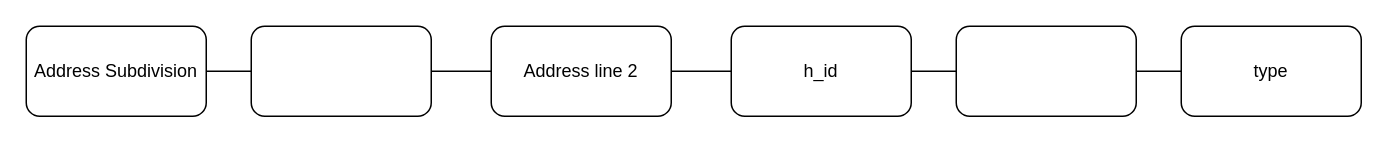
Some shapes in this 1388 by 143 pixel diagram are drawn without their labels. The shapes that lost their labels are listed below. From the top down, each one's box as (x1, y1, x2, y2) in pixels, then its label:
(250, 25, 431, 116): Address Locality
(955, 25, 1136, 116): Catagory Name
